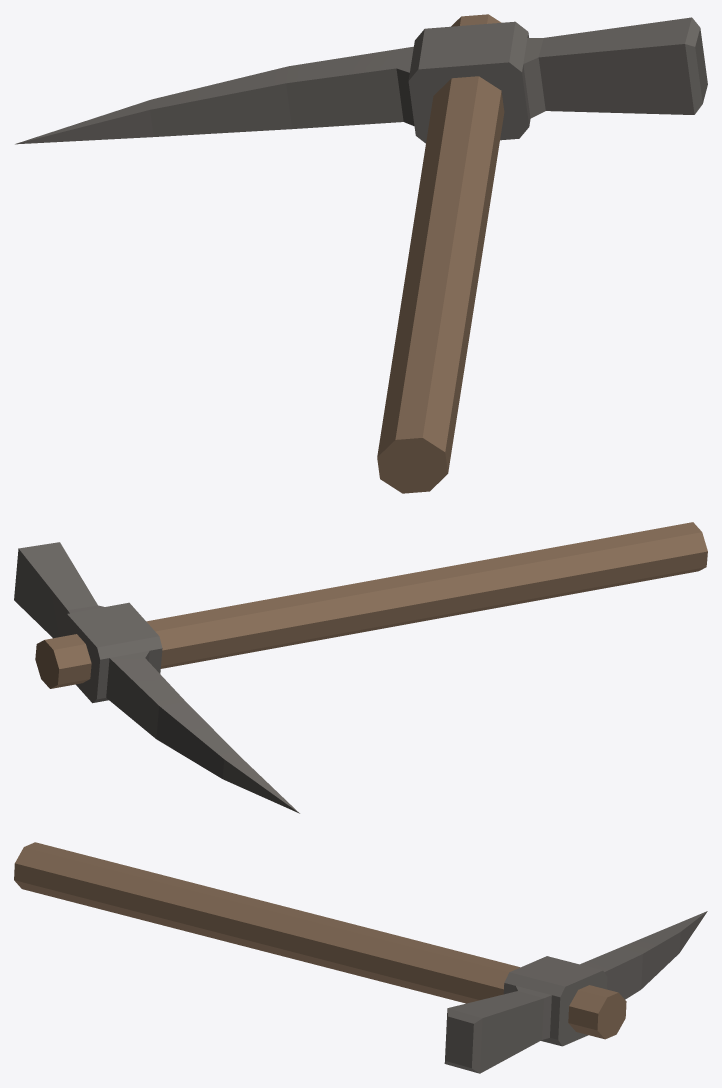
The model's file is Cave_Prop_Pick_Small.glb.
3 views of the same model, one above another, from view 1: azimuth 30°, elevation 25°; view 2: azimuth 150°, elevation 25°; view 3: azimuth 270°, elevation 25° (orthographic). The views are drawn at different scales.
Visible parts, largest first — view 1: Cave_Prop_Pick_Small; view 2: Cave_Prop_Pick_Small; view 3: Cave_Prop_Pick_Small.
Boxes of the visible parts, box(x1,y1,x2,y2) form: Cave_Prop_Pick_Small: box(15, 14, 707, 493); Cave_Prop_Pick_Small: box(14, 522, 707, 813); Cave_Prop_Pick_Small: box(14, 842, 707, 1073).
Bounding box in the file's own units: 0.343 × 0.0584 × 0.4497.
